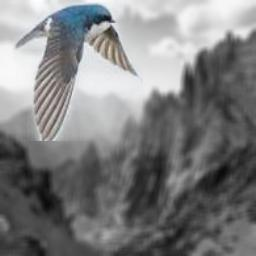Swallow: (13, 2, 143, 141)
